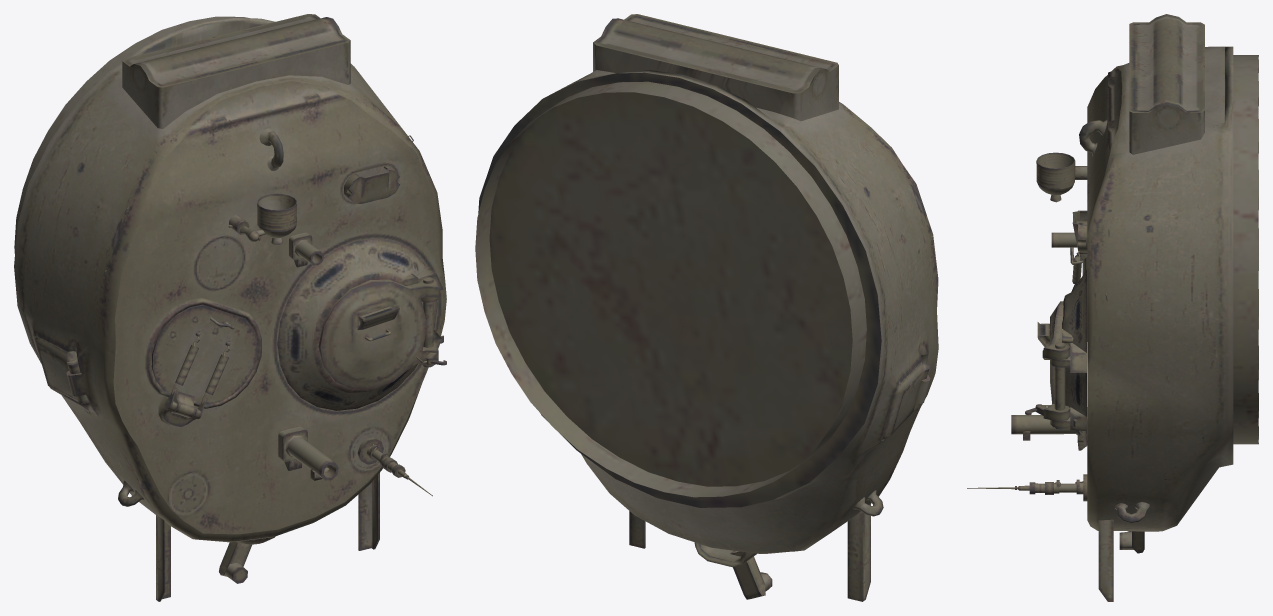
The model's file is Turret_02.glb.
3 renders of one model, left to right at view 1: azimuth 30°, elevation 25°; view 2: azimuth 150°, elevation 25°; view 3: azimuth 270°, elevation 25°, orthographic. The views are drawn at different scales.
Visible parts, largest first — view 1: set_0_group_0; view 2: set_0_group_0; view 3: set_0_group_0.
Boxes of the visible parts, bbox=[...] form: set_0_group_0: bbox=[14, 14, 446, 601]; set_0_group_0: bbox=[475, 14, 938, 601]; set_0_group_0: bbox=[967, 14, 1258, 601].
Size of the model in its own units: 2.07 by 2.75 by 1.45.
Materials: 1 (1 with a texture image).
